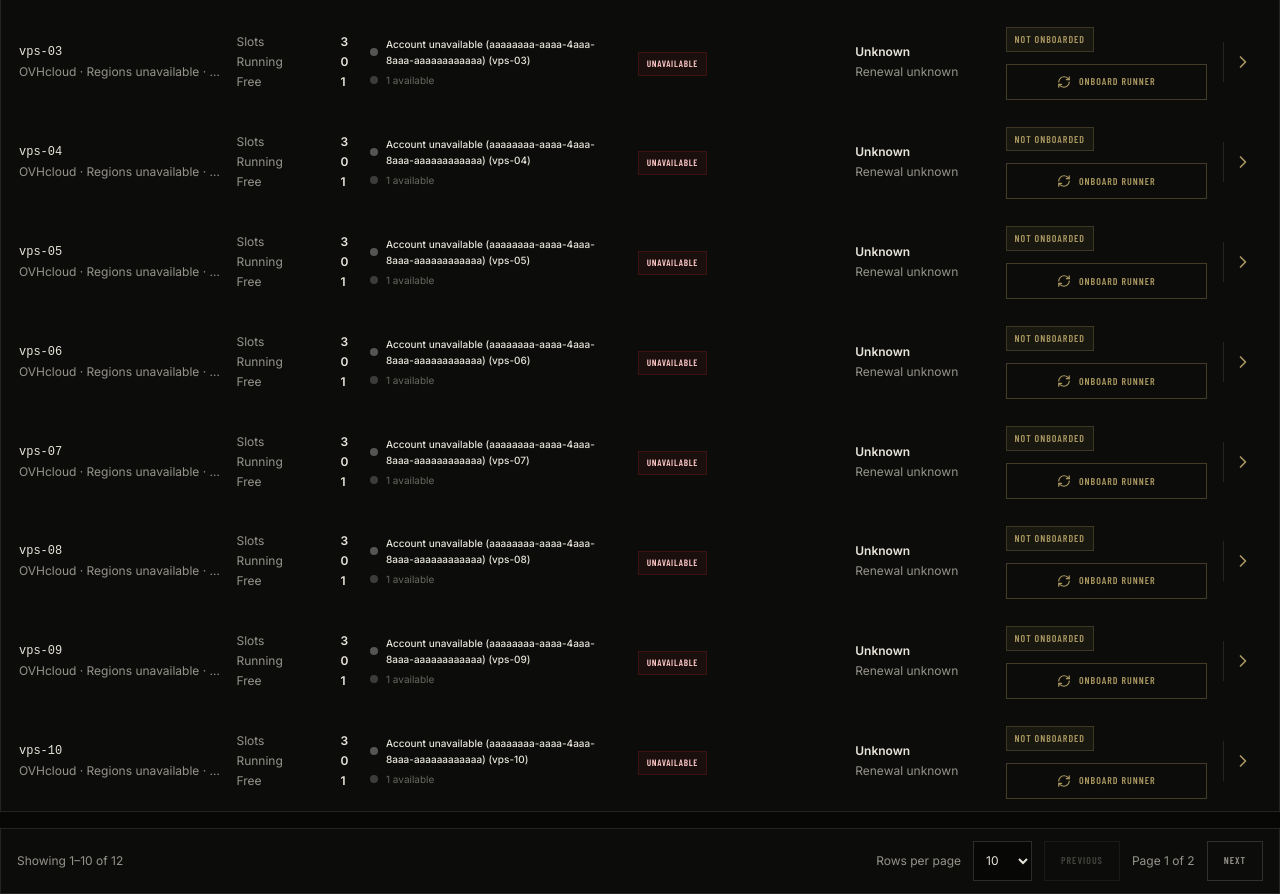
VPS inventory filters › pages registered hosts and stores the chosen page size
(page scrolled)
Expected: the dropdown labelled "Rows per page" shows "10", [973,841,1032,881]
Expected: the button "Previous" is disabled, [1044,841,1120,881]
Click the button "Next" at [1235, 861], box [1207,841,1263,881]
(page scrolled)
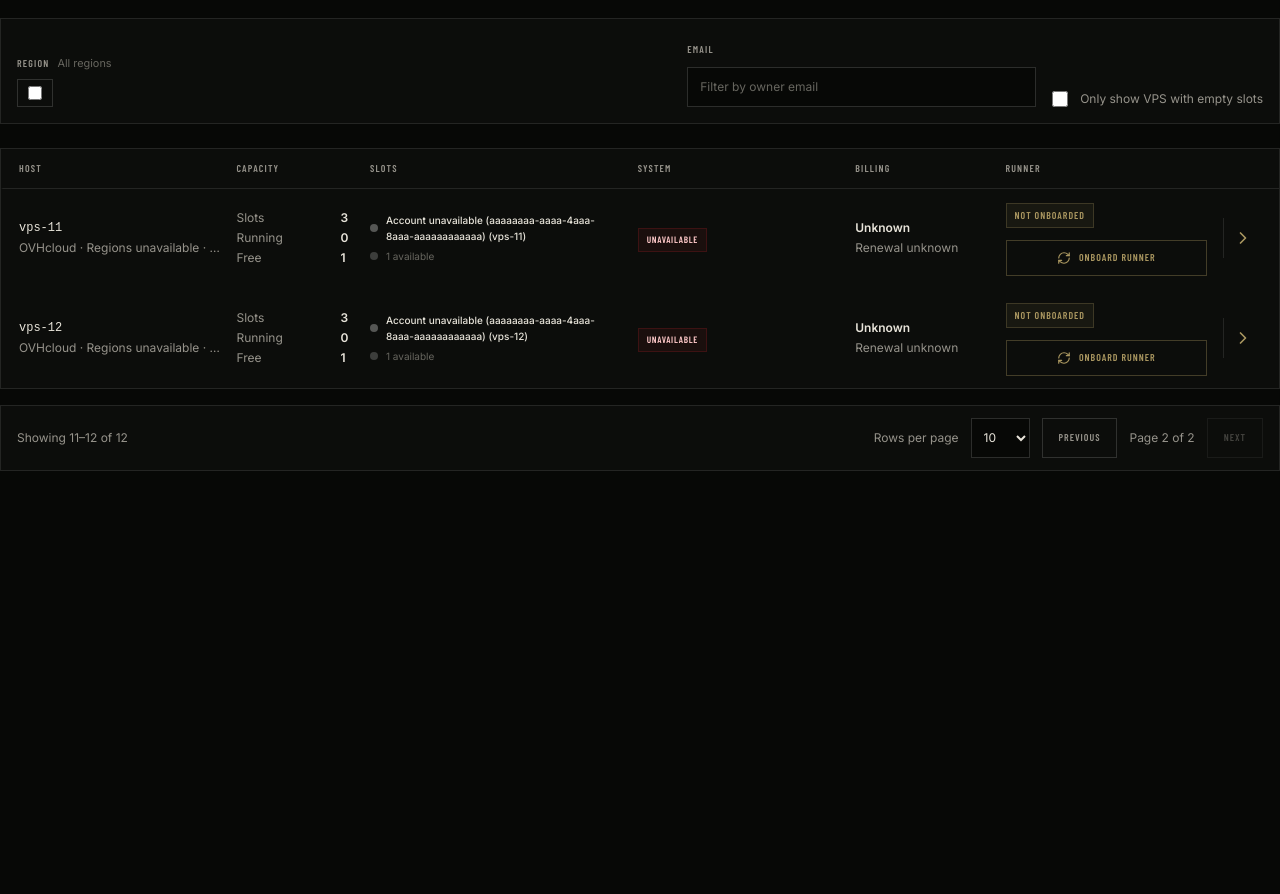
Expected: the text "Showing 11–12 of 12" is shown, [17,430,128,446]
Expected: the button "Next" is disabled, [1207,418,1263,458]
Click the button "Previous" at [1080, 438], box [1042,418,1118,458]
(page scrolled)
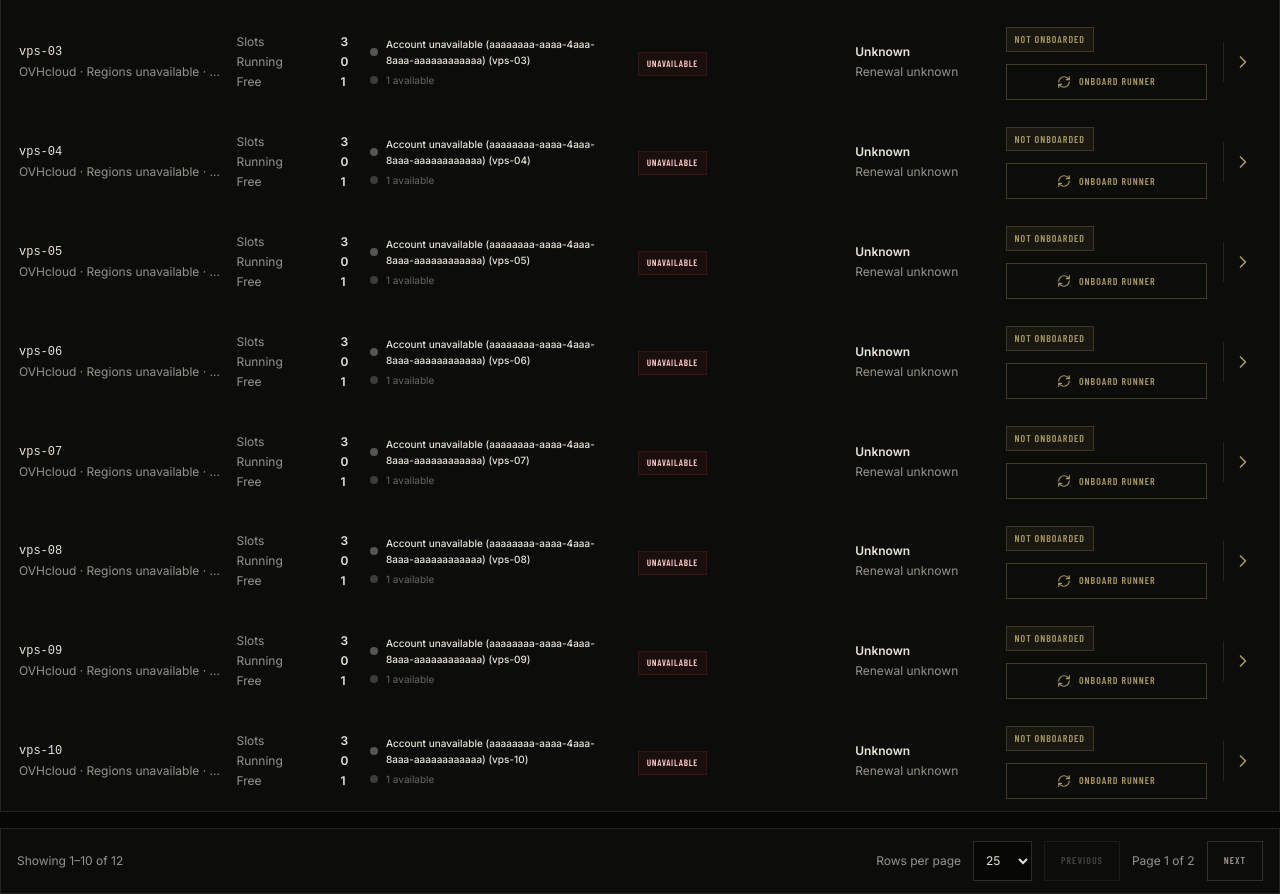
Select "25" in the dropdown labelled "Rows per page" at [1002, 861], box [973,841,1032,881]
(page scrolled)
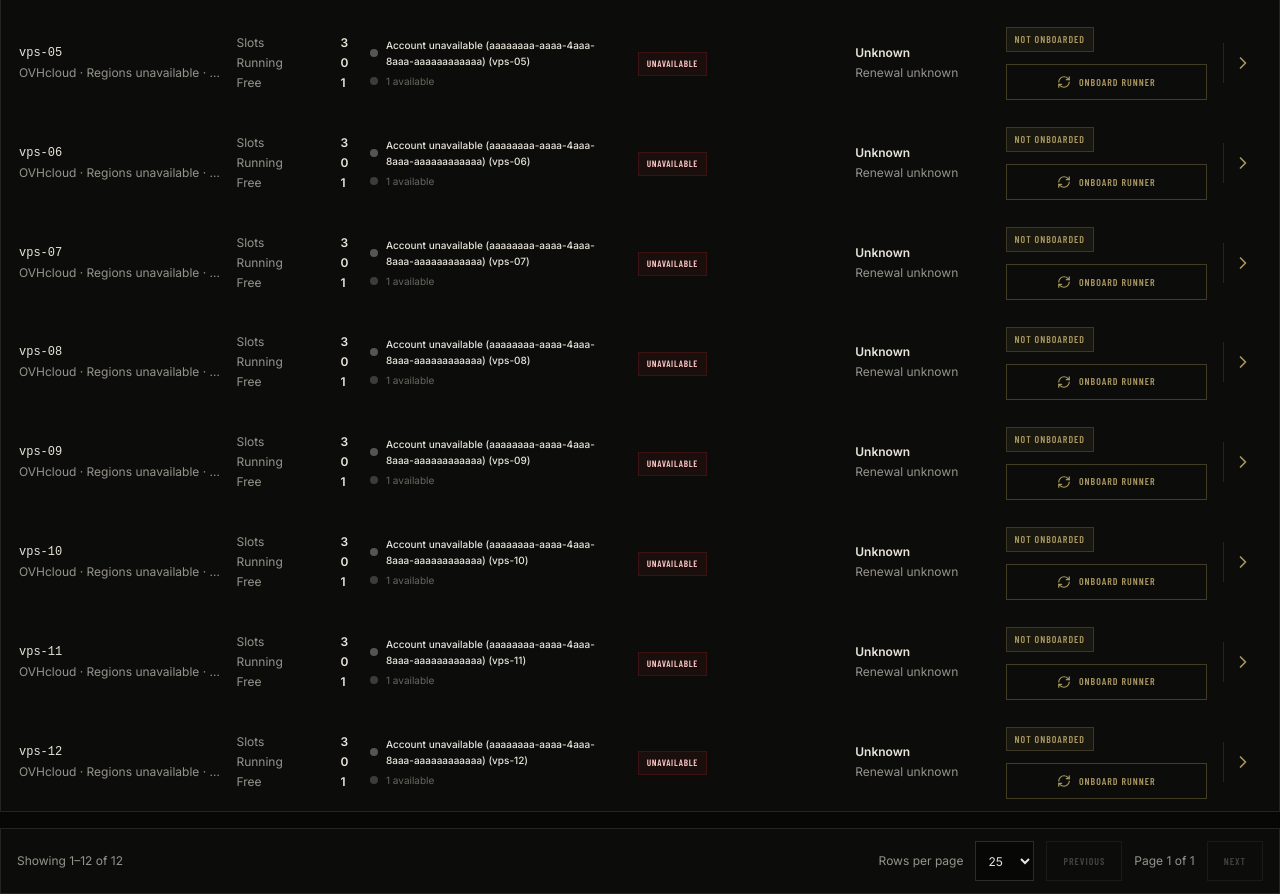
Expected: the text "Page 1 of 1" is shown, [1134,853,1195,869]
